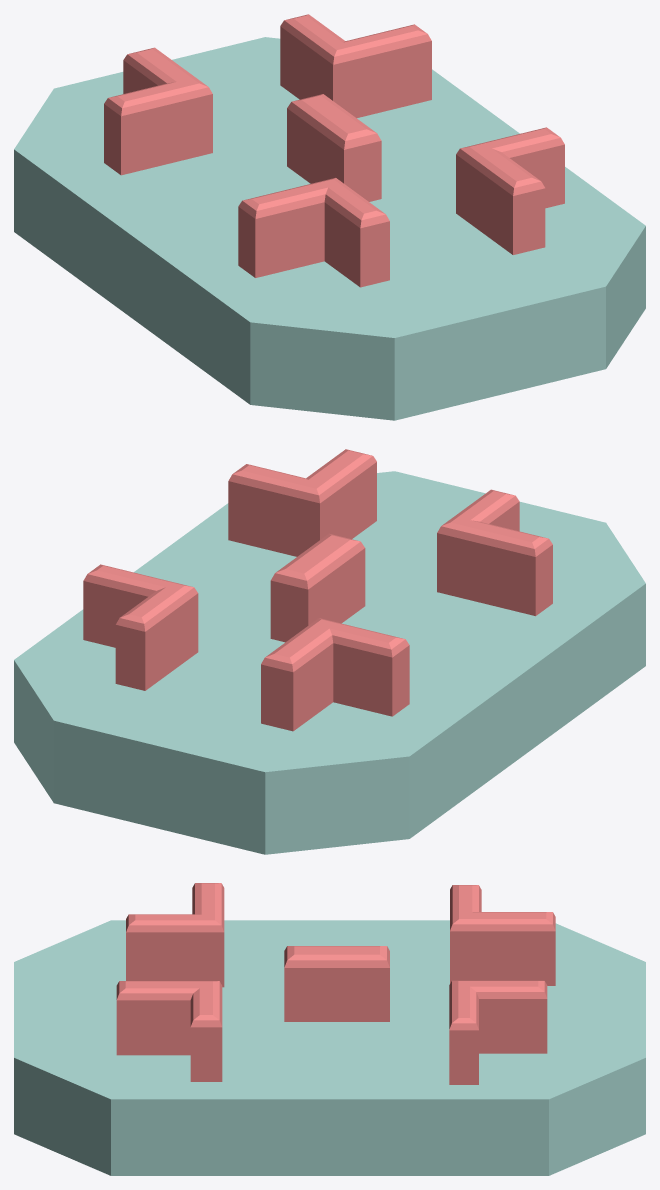
The model's file is Maze.fbx.
3 renders of one model, top to bottom at view 1: azimuth 30°, elevation 25°; view 2: azimuth 150°, elevation 25°; view 3: azimuth 270°, elevation 25°, orthographic. The views are drawn at different scales.
Parts seen in each view (by area): view 1: Ground_Maz3, Cube.005, Cube.006, Cube.004, Cube.003, Cube.002; view 2: Ground_Maz3, Cube.003, Cube.004, Cube.006, Cube.005, Cube.002; view 3: Ground_Maz3, Cube.004, Cube.006, Cube.003, Cube.002, Cube.005.
Boxes of the visible parts, bbox=[...] form: Ground_Maz3: bbox=[14, 37, 645, 420]; Cube.005: bbox=[238, 178, 389, 287]; Cube.006: bbox=[280, 14, 431, 118]; Cube.004: bbox=[456, 127, 564, 254]; Cube.003: bbox=[104, 47, 212, 175]; Cube.002: bbox=[287, 94, 381, 201]; Ground_Maz3: bbox=[14, 471, 645, 854]; Cube.003: bbox=[261, 618, 409, 731]; Cube.004: bbox=[228, 449, 376, 556]; Cube.006: bbox=[83, 564, 198, 690]; Cube.005: bbox=[437, 489, 552, 616]; Cube.002: bbox=[270, 533, 365, 642]; Ground_Maz3: bbox=[14, 920, 645, 1175]; Cube.004: bbox=[116, 981, 222, 1081]; Cube.006: bbox=[449, 980, 547, 1084]; Cube.003: bbox=[450, 885, 555, 985]; Cube.002: bbox=[284, 946, 389, 1021]; Cube.005: bbox=[126, 883, 224, 987].
Size of the model in its own units: 6005 by 2186 by 8960.
